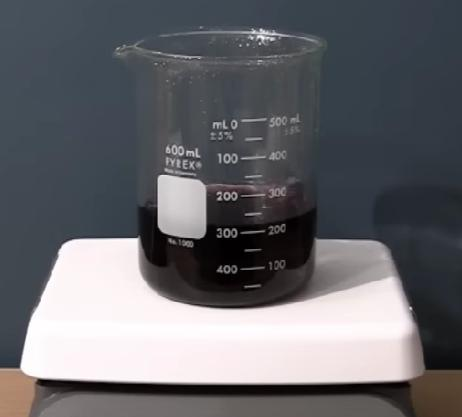Beaker: (119, 25, 329, 305)
